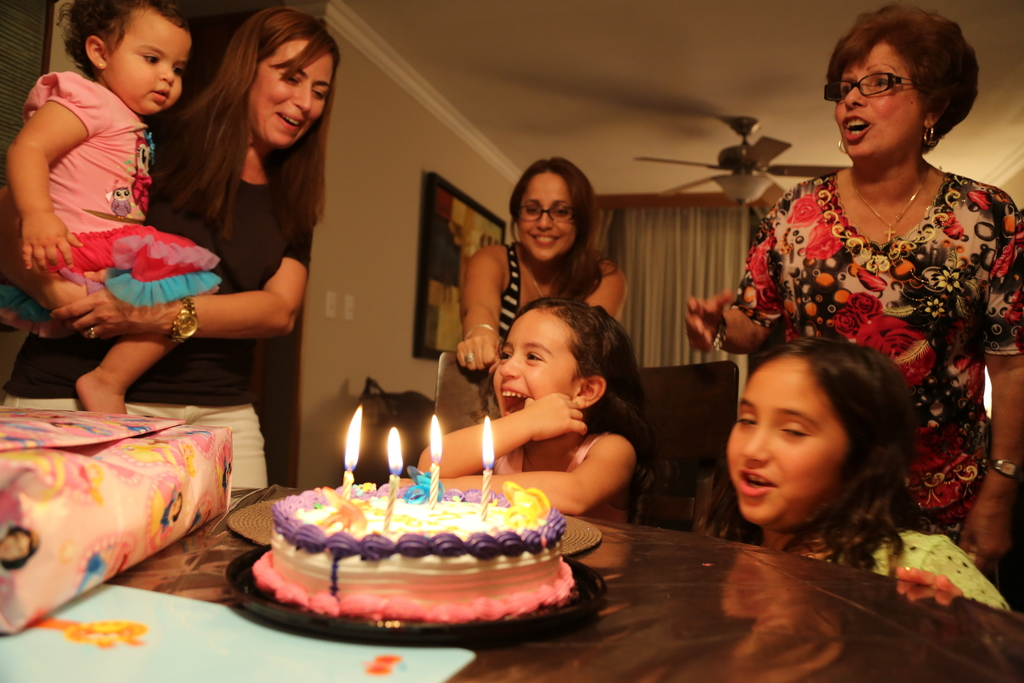cake: (249, 483, 576, 622)
